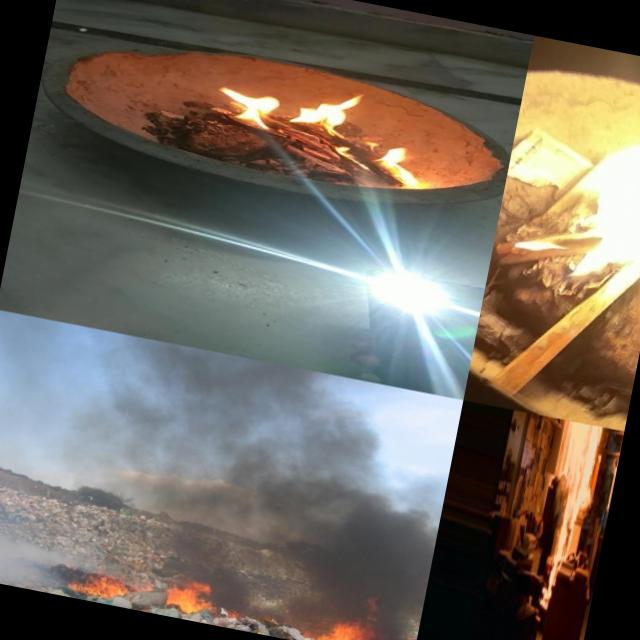fire: (511, 40, 640, 295), (197, 66, 435, 188), (538, 421, 604, 591), (64, 565, 134, 609), (160, 576, 218, 618), (306, 613, 373, 640)
smoke: (84, 335, 463, 622), (0, 410, 91, 595)
